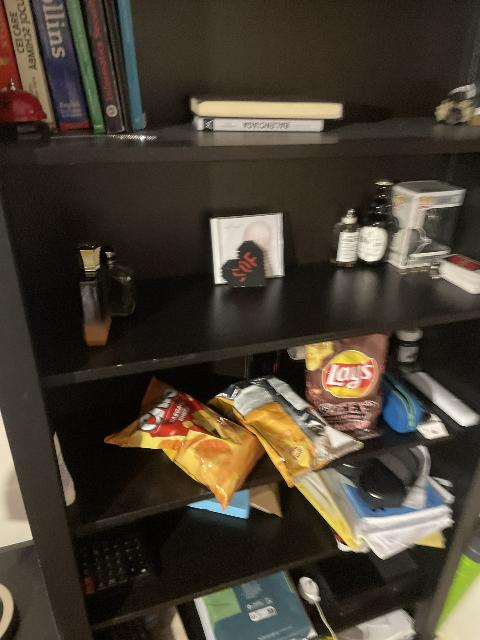Chio Cascaval 125g: (104, 376, 266, 509)
Chio Hula Hoops Cheese 70g: (211, 371, 362, 486)
Lays Beef Grilled Ribs 125g: (309, 334, 387, 429)
